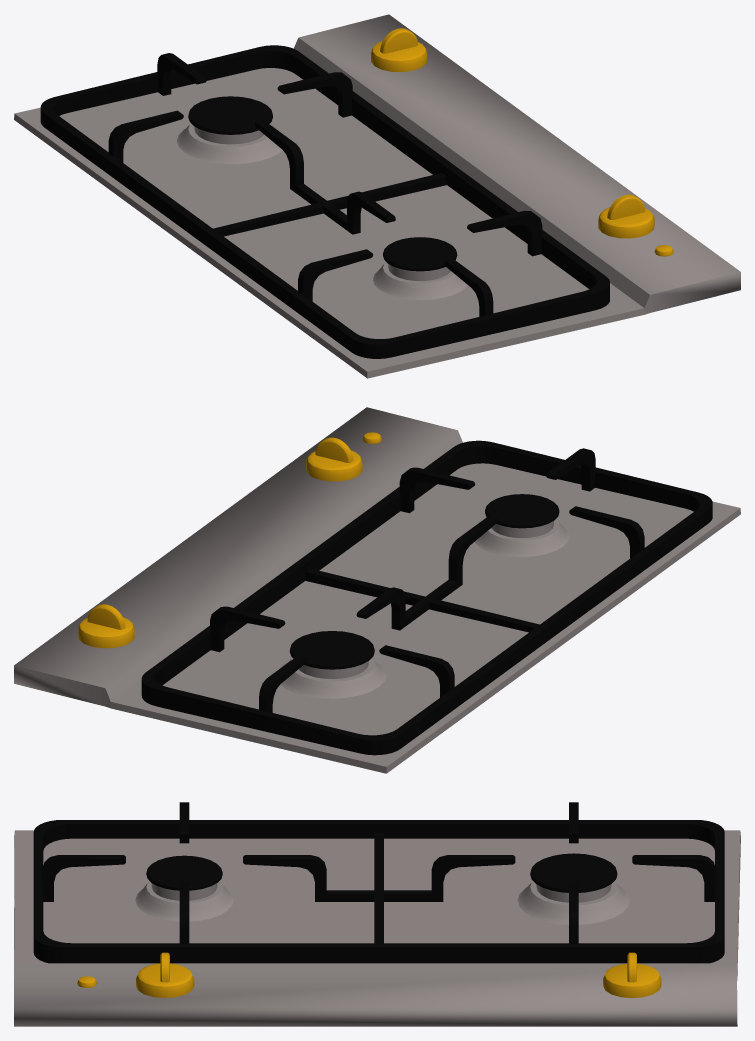
The model's file is GasStove.fbx.
The picture shows the model from 3 angles, top to bottom: view 1: azimuth 30°, elevation 25°; view 2: azimuth 150°, elevation 25°; view 3: azimuth 270°, elevation 25°; orthographic projection. The views are drawn at different scales.
Visible parts, largest first — view 1: gasHob.001; view 2: gasHob.001; view 3: gasHob.001.
Boxes of the visible parts, x1=… form: gasHob.001: x1=14, y1=14, x2=740, y2=378; gasHob.001: x1=14, y1=407, x2=740, y2=773; gasHob.001: x1=14, y1=802, x2=740, y2=1026.
Size of the model in its own units: 159 by 21.52 by 261.
